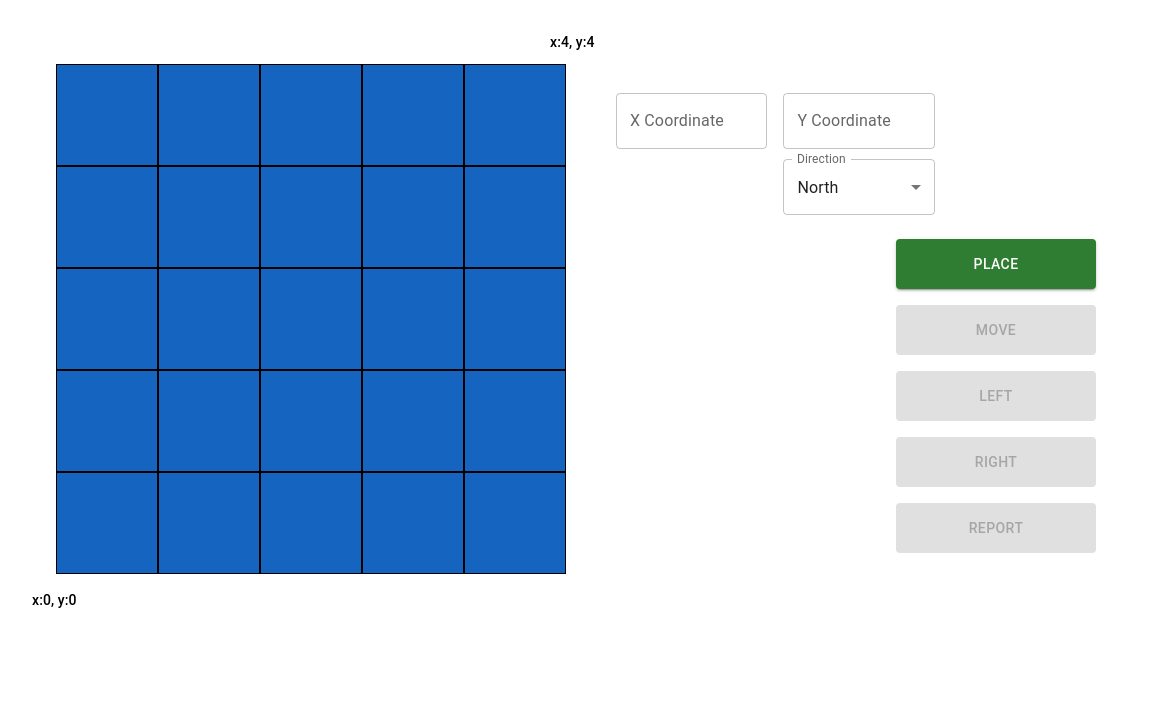
Test: renders Grid › move, left, right and report button is enabled after robot is placed
This screenshot has width=1152, height=720.
Type "0" into the number field labelled "X Coordinate" at (692, 121), box top-left (616, 93), bottom-right (767, 149)
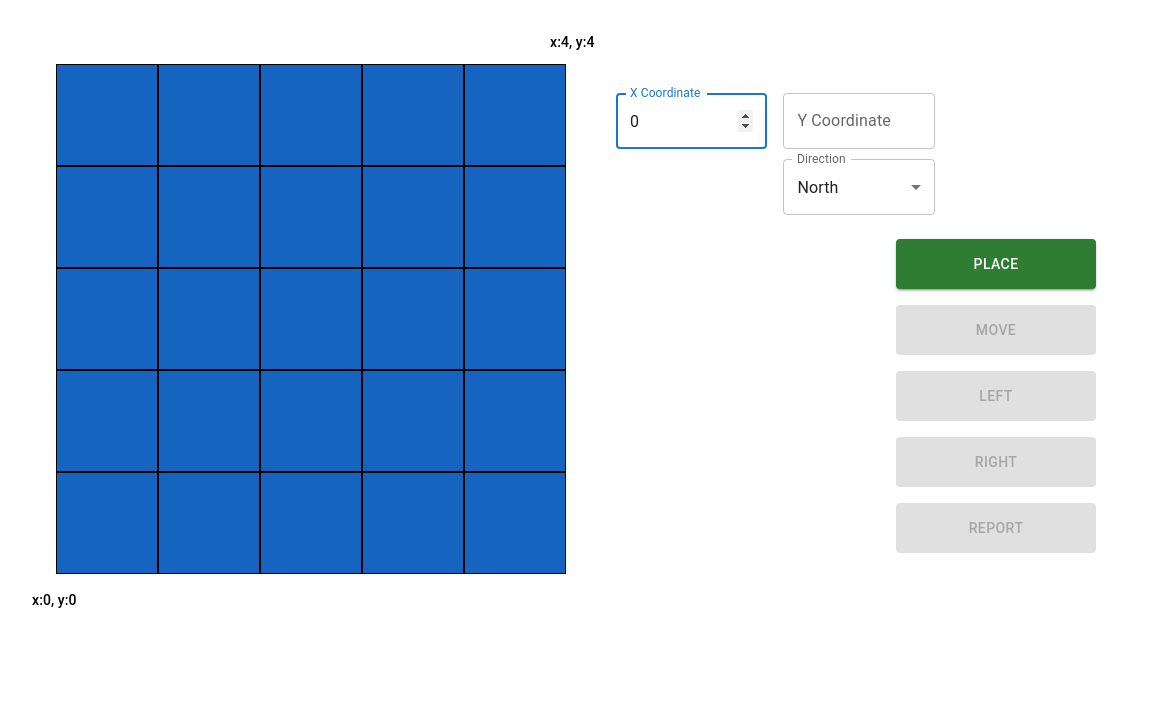
Type "0" into the number field labelled "Y Coordinate" at (859, 121), box top-left (783, 93), bottom-right (935, 149)
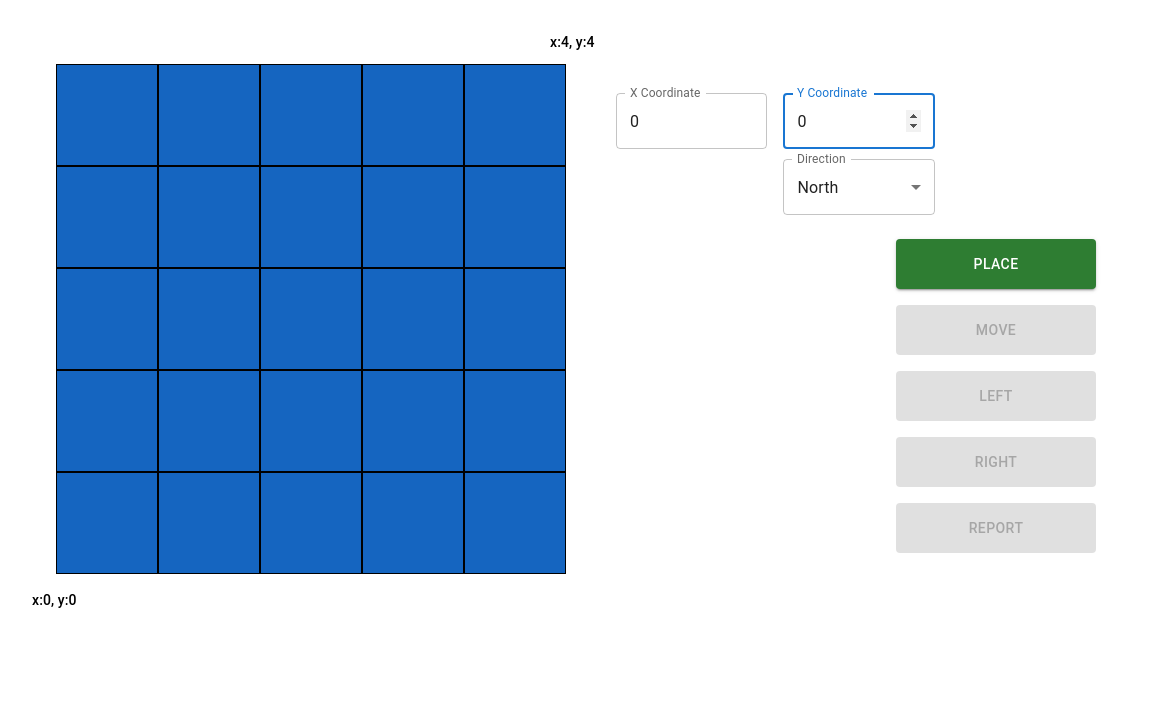
Click the button "PLACE" at (996, 264), box top-left (896, 239), bottom-right (1096, 289)
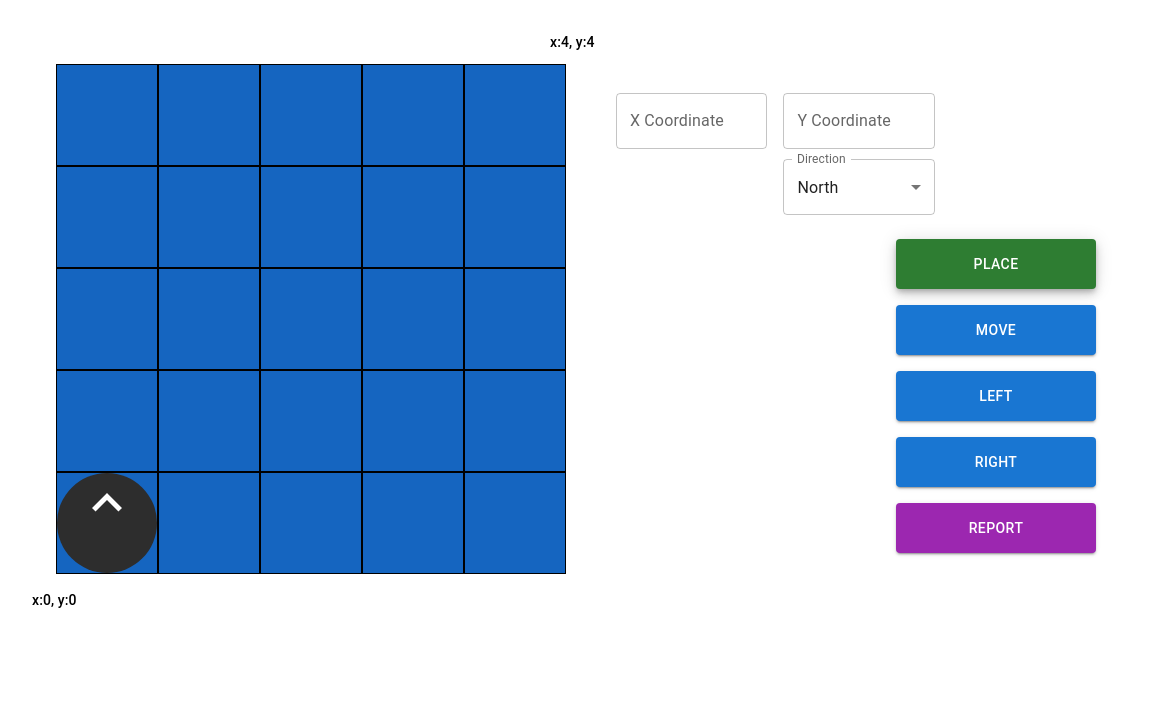
expect the button "LEFT" is enabled: met, box top-left (896, 371), bottom-right (1096, 421)
expect the button "RIGHT" is enabled: met, box top-left (896, 437), bottom-right (1096, 487)
expect the button "MOVE" is enabled: met, box top-left (896, 305), bottom-right (1096, 355)
